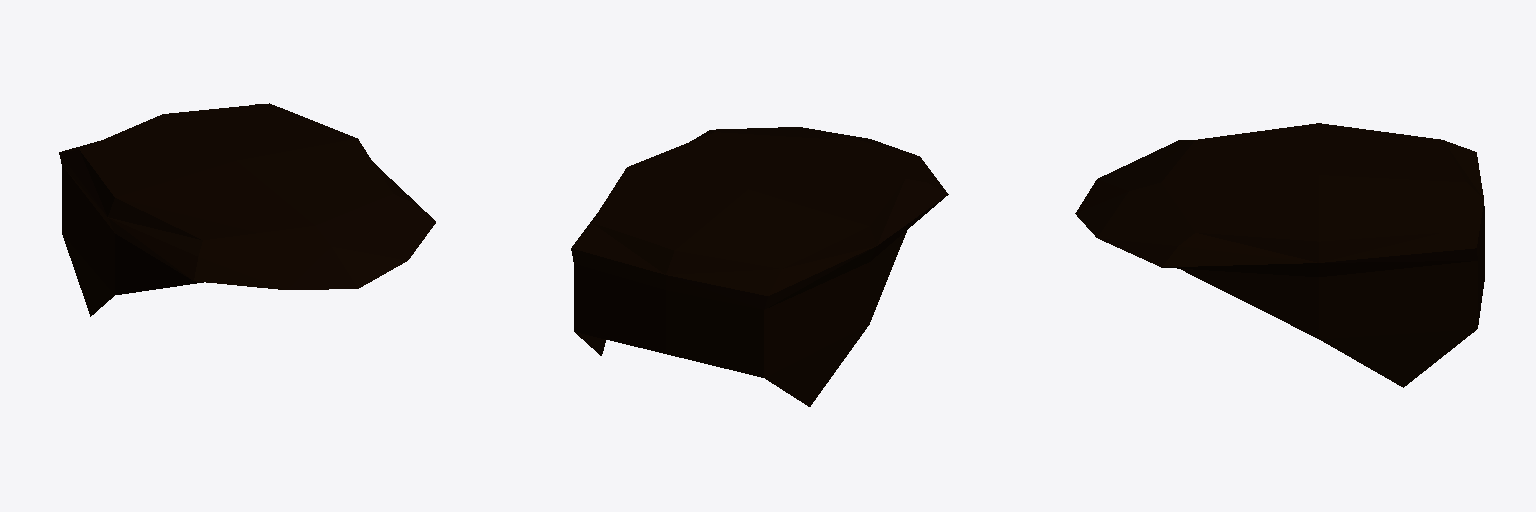
File: Cap.obj
3 renders of one model, left to right at view 1: azimuth 30°, elevation 25°; view 2: azimuth 150°, elevation 25°; view 3: azimuth 270°, elevation 25°, orthographic.
Visible parts, largest first — view 1: Cube_Cube.001; view 2: Cube_Cube.001; view 3: Cube_Cube.001.
Part boxes in pixels (left/top/right/bottom): Cube_Cube.001: left=59, top=103, right=435, bottom=316; Cube_Cube.001: left=571, top=127, right=948, bottom=406; Cube_Cube.001: left=1075, top=123, right=1484, bottom=387.
Bounding box in the file's own units: 1.31 × 0.789 × 1.81.